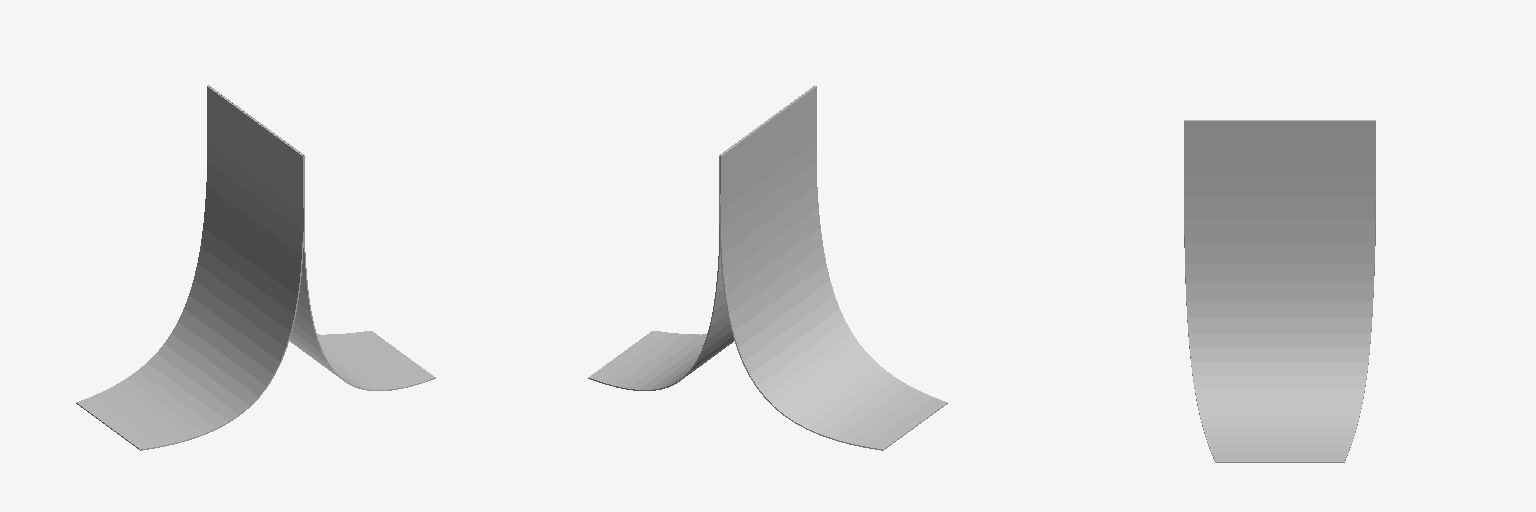
The model's file is desk1.obj.
3 views of the same model, side by side, from view 1: azimuth 30°, elevation 25°; view 2: azimuth 150°, elevation 25°; view 3: azimuth 270°, elevation 25° (orthographic).
Parts seen in each view (by area): view 1: Mesh2 Group4 Group3 Model, Mesh1 Group2 Group1 Model; view 2: Mesh2 Group4 Group3 Model, Mesh1 Group2 Group1 Model; view 3: Mesh1 Group2 Group1 Model, Mesh2 Group4 Group3 Model.
Boxes of the visible parts, x1,y1,x2,y2 form: Mesh2 Group4 Group3 Model: [76, 85, 304, 450]; Mesh1 Group2 Group1 Model: [207, 86, 435, 390]; Mesh2 Group4 Group3 Model: [719, 85, 947, 450]; Mesh1 Group2 Group1 Model: [588, 86, 816, 390]; Mesh1 Group2 Group1 Model: [1184, 120, 1375, 462]; Mesh2 Group4 Group3 Model: [1184, 121, 1375, 275].
Size of the model in its own units: 15.97 by 13.99 by 9.02.